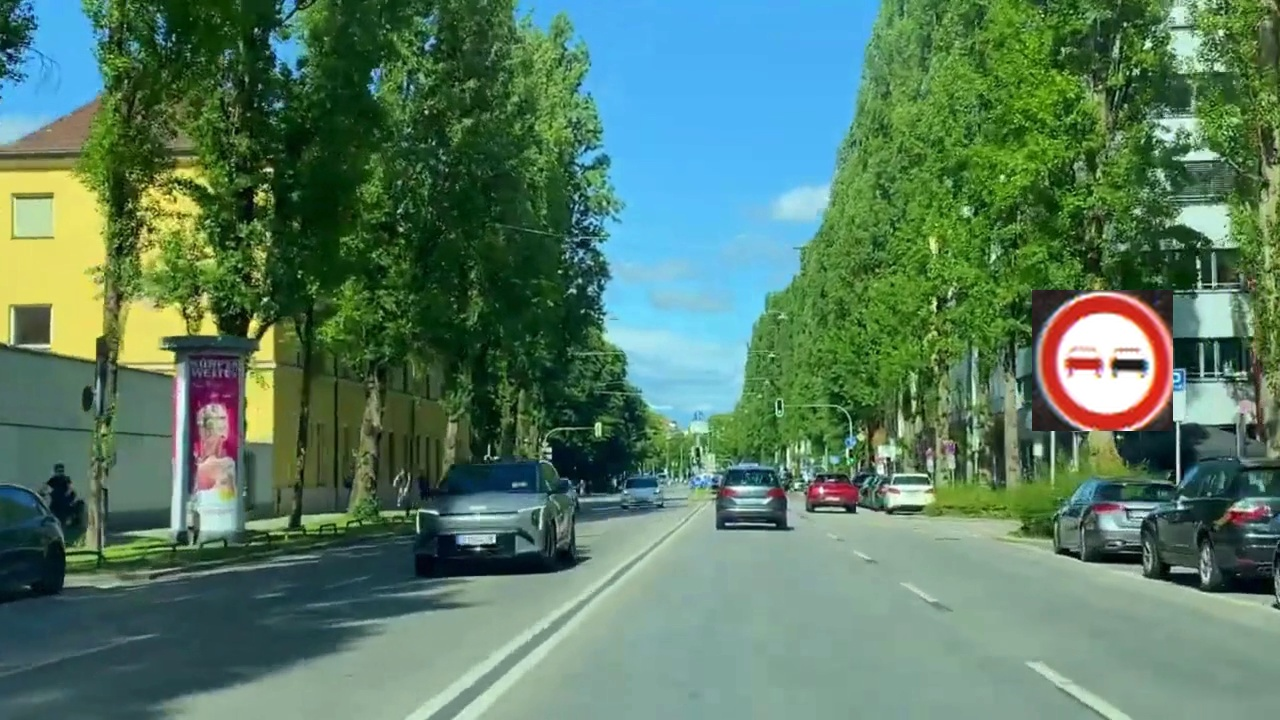No passing: (1032, 290, 1173, 431)
